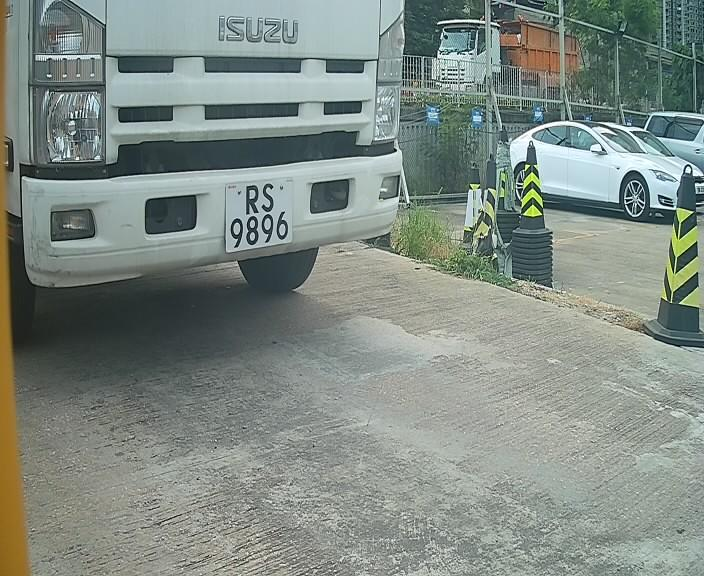License Plate: (205, 163, 309, 265)
